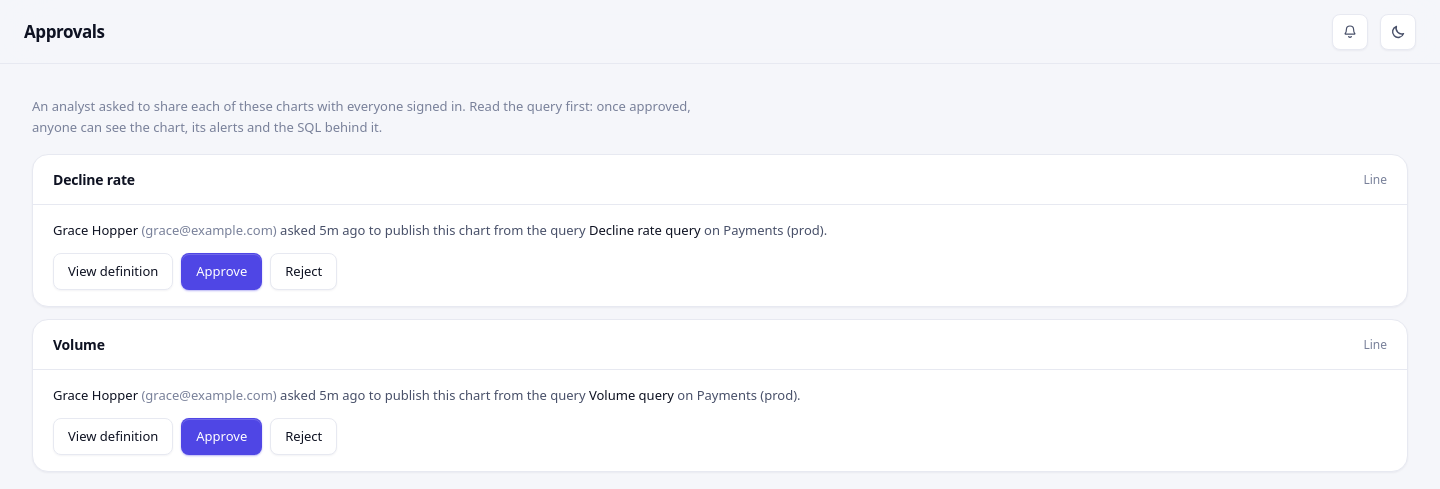
Scenario: for an administrator › approves through the engine, once, and the list comes from the engine's answer
This screenshot has width=1440, height=489.
Click the 1st button "Approve": {"x": 222, "y": 272} top-left (181, 253), bottom-right (262, 290)
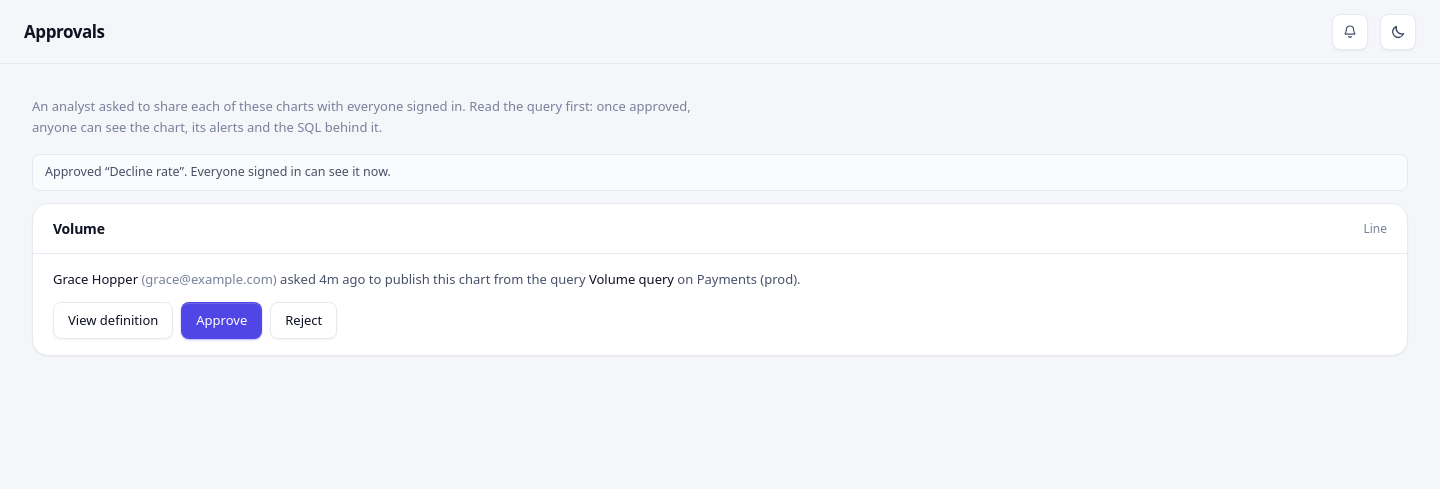
expect the heading "Volume" is shown: met, box top-left (53, 218), bottom-right (105, 239)
expect the message shows "Approved “Decline rate”": met, box top-left (45, 163), bottom-right (391, 180)
